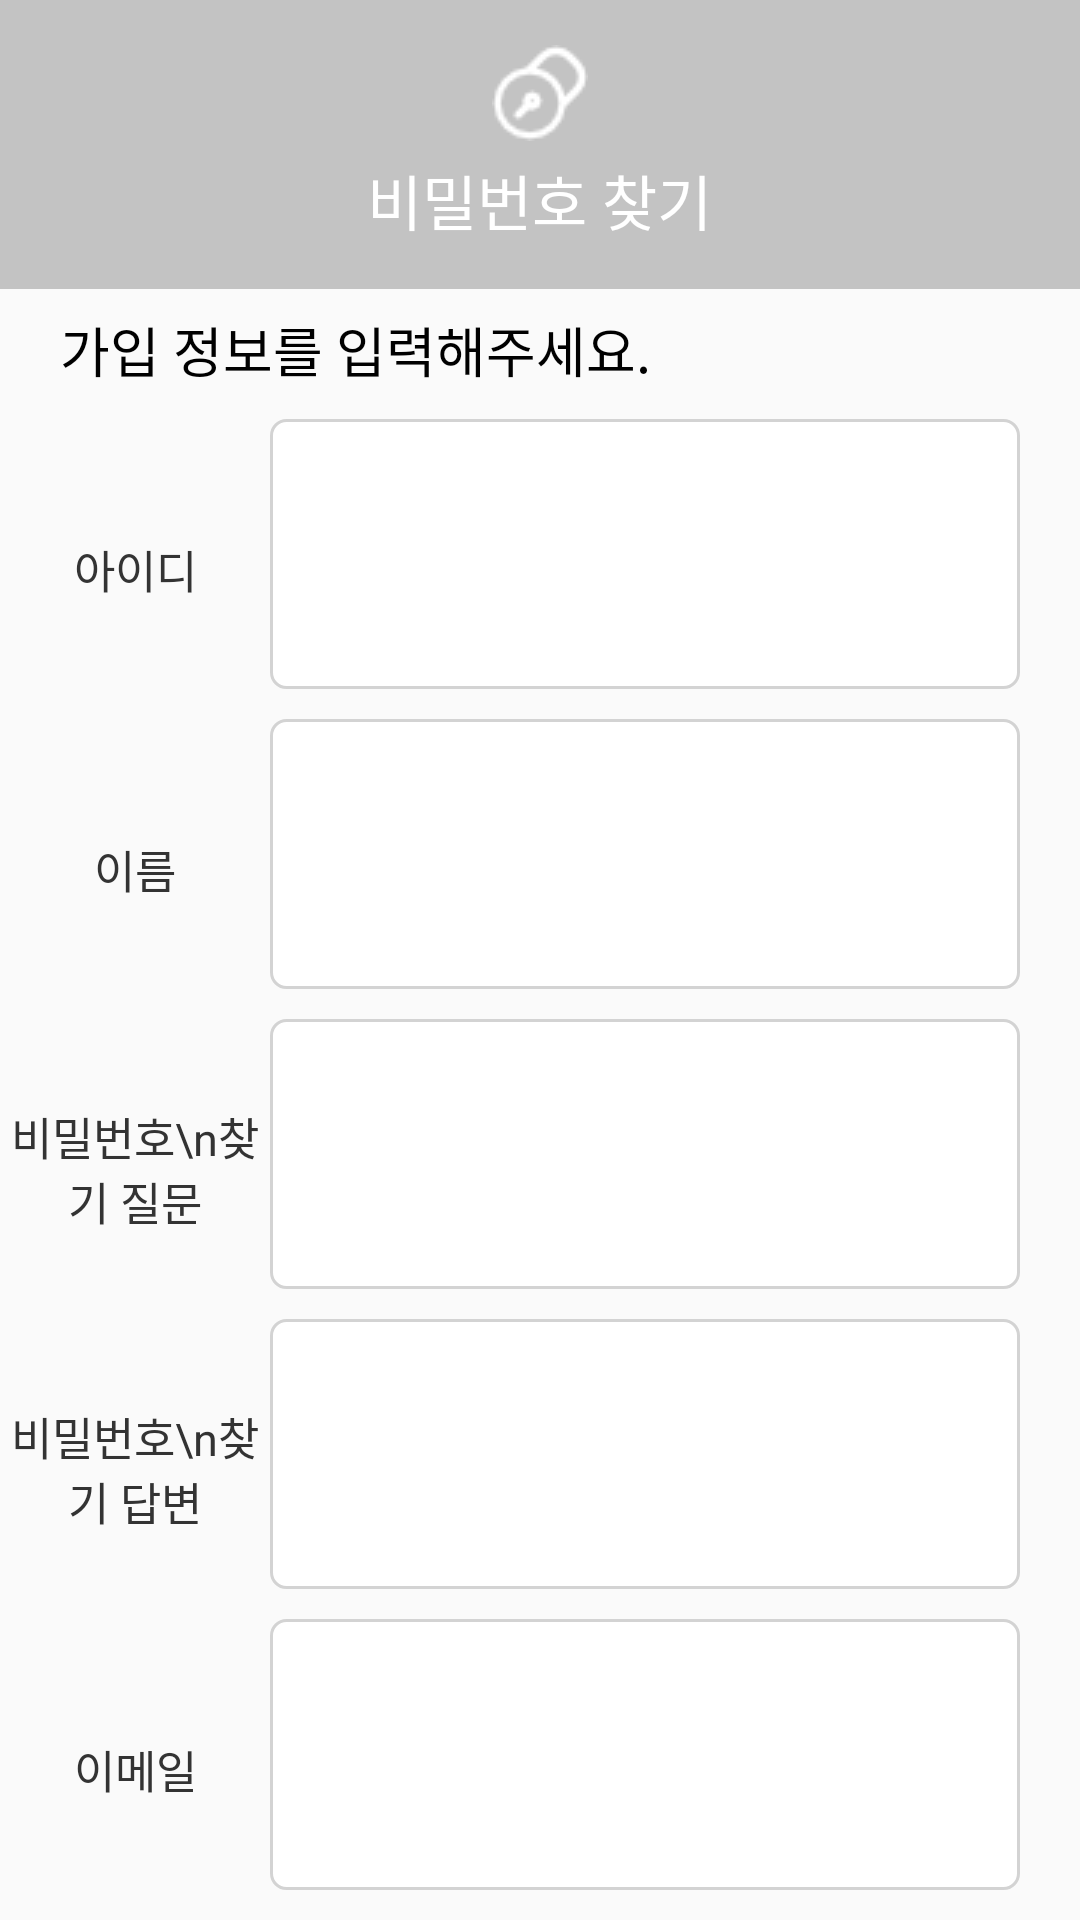

Icons on this 1080px×1920px Android screen, each with the point to tap as point (x, y):
alert password: point (540, 93)
